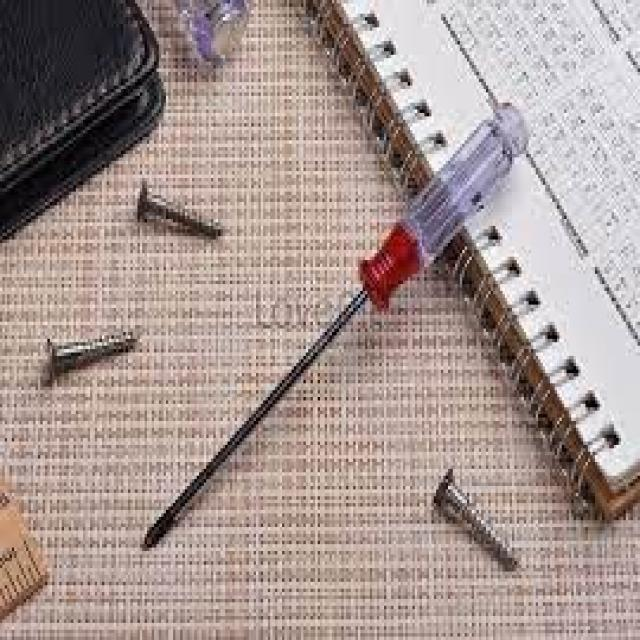screwdriver: (141, 98, 530, 560)
